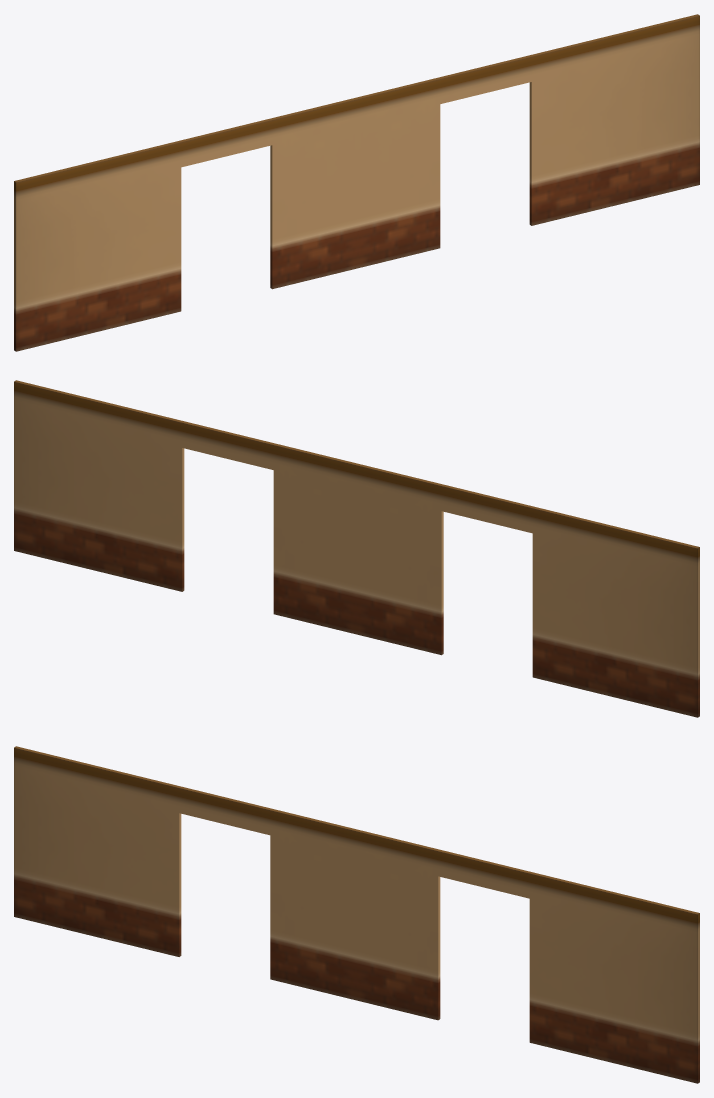
File: Wall_Door_02.FBX
3 views of the same model, one above another, from view 1: azimuth 30°, elevation 25°; view 2: azimuth 150°, elevation 25°; view 3: azimuth 330°, elevation 25° (orthographic).
Parts seen in each view (by area): view 1: Wall_Door_02; view 2: Wall_Door_02; view 3: Wall_Door_02.
Part boxes in pixels (box(x1,y1,x2,y2)): Wall_Door_02: box(14, 14, 699, 351); Wall_Door_02: box(14, 380, 699, 717); Wall_Door_02: box(14, 746, 699, 1083).
Size of the model in its own units: 387 by 91.45 by 2.
